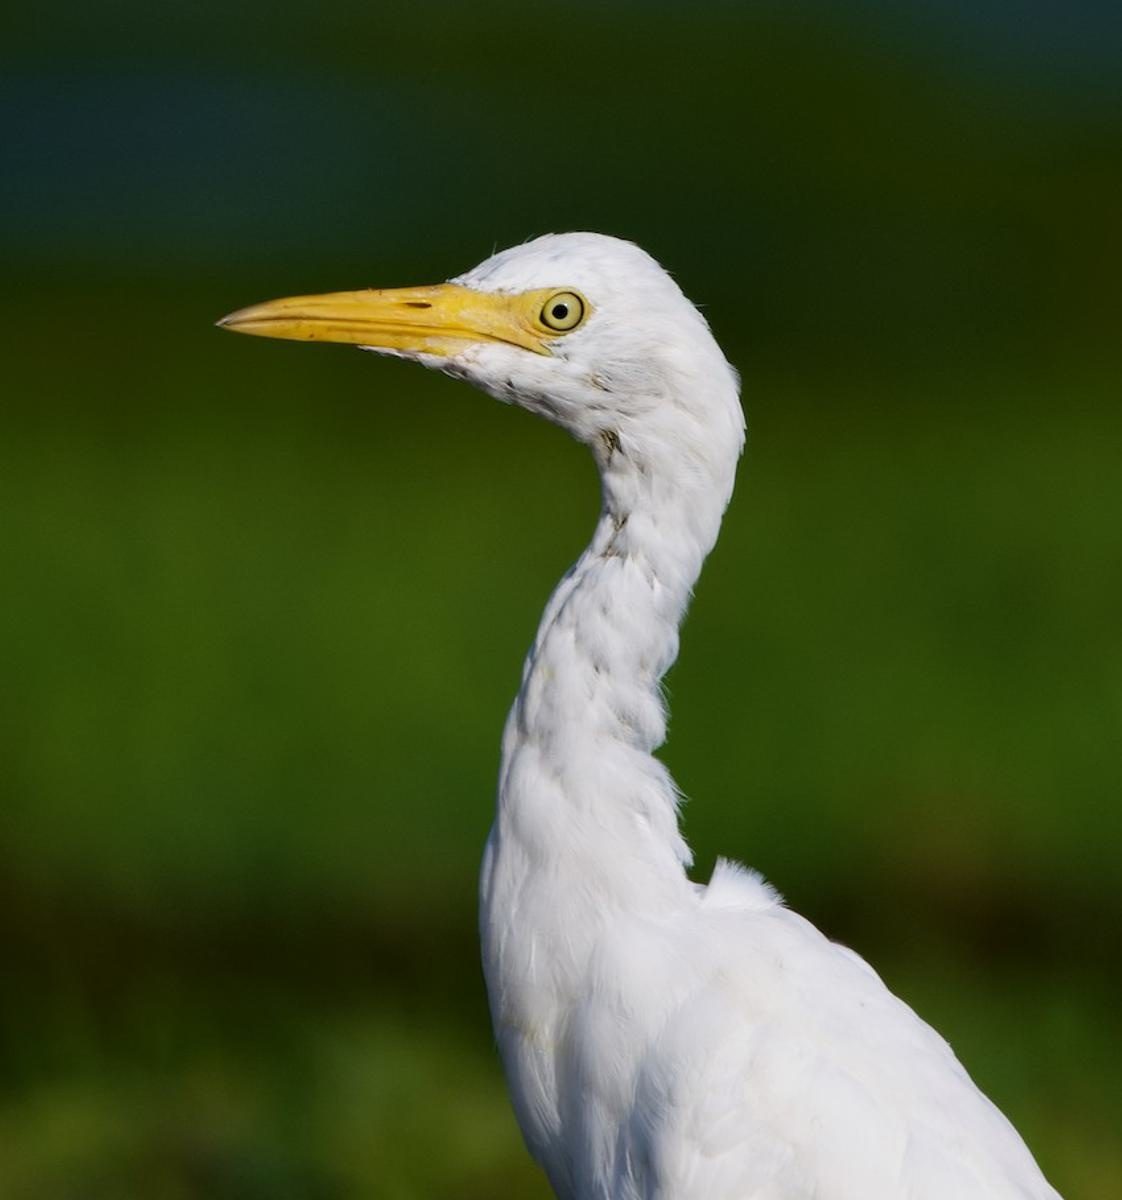egret: (216, 197, 1058, 1200)
